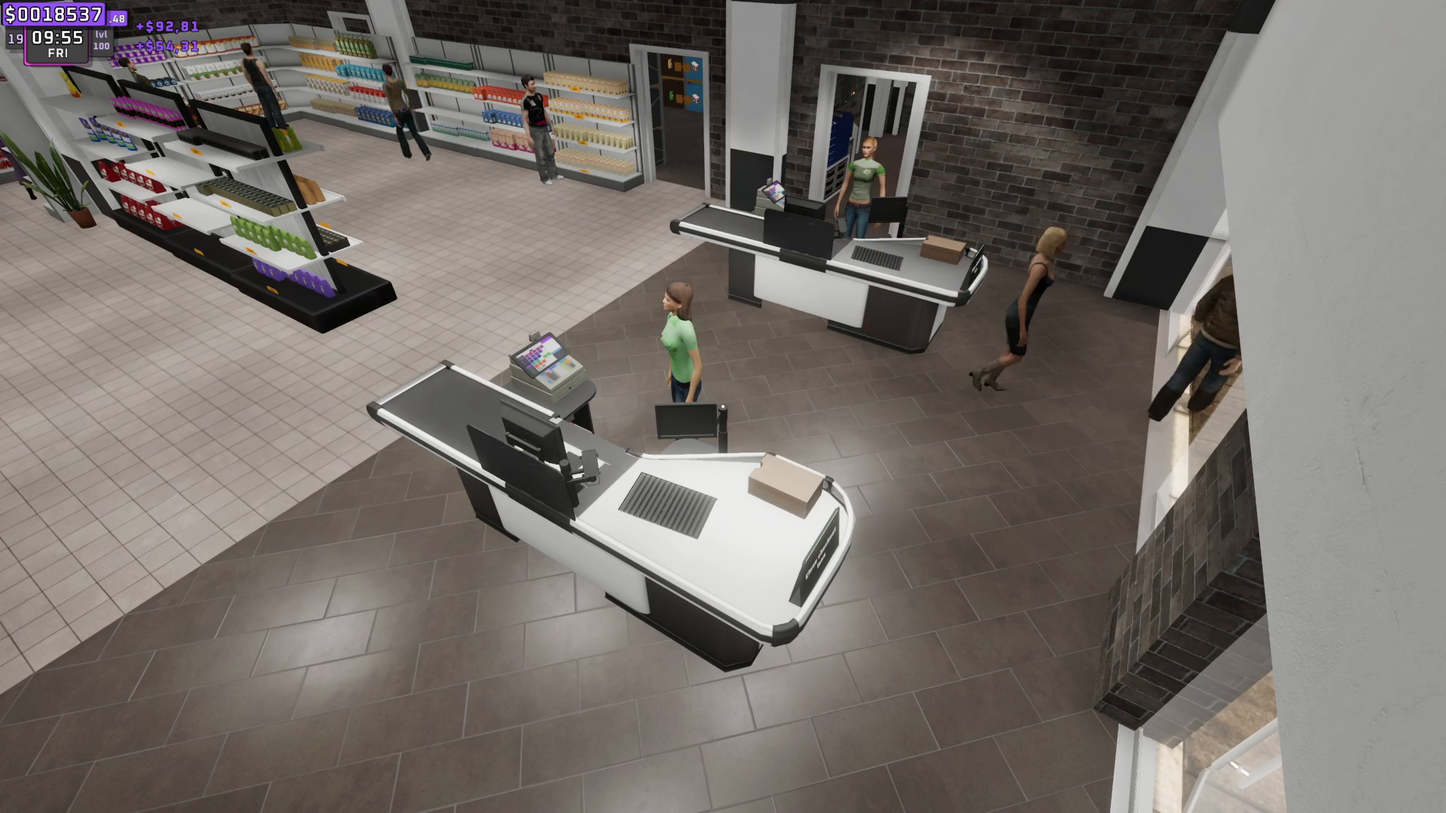Client: (967, 226, 1067, 401)
Employee: (655, 278, 710, 404), (846, 134, 885, 231)
